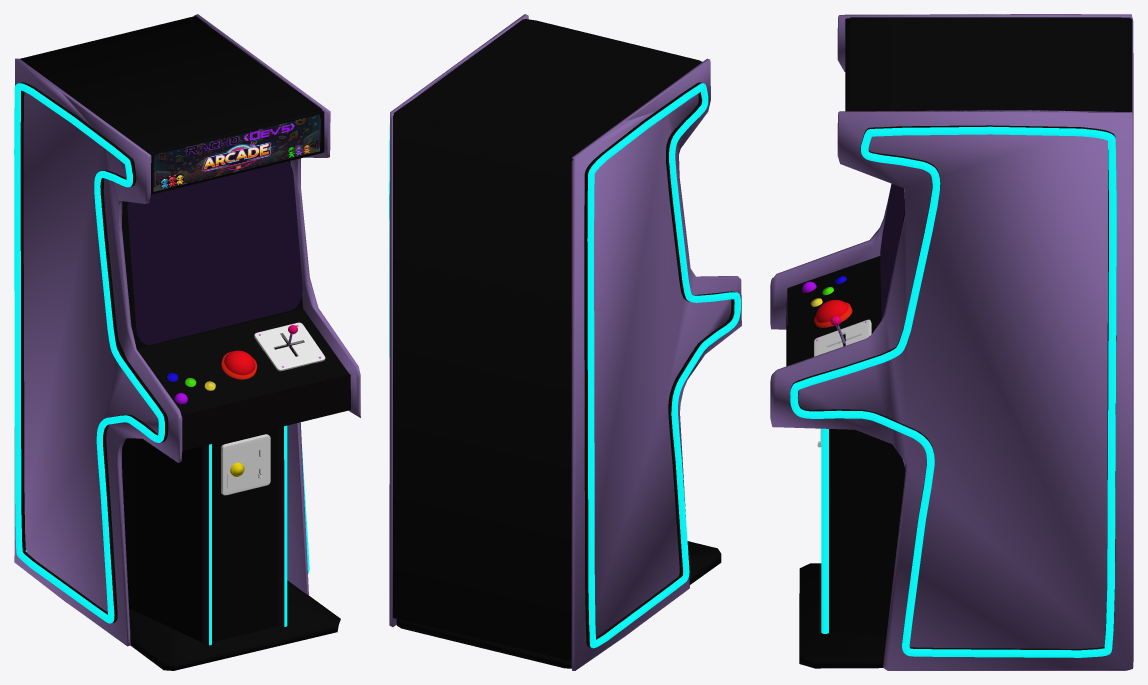
The model's file is rachoArcade.local.glb.
3 renders of one model, left to right at view 1: azimuth 30°, elevation 25°; view 2: azimuth 150°, elevation 25°; view 3: azimuth 270°, elevation 25°, orthographic. The views are drawn at different scales.
Visible parts, largest first — view 1: Body 2, MAIN SCREEN.002, Sweep_NURBS_NEON_0.003, STEEL2.002, Body, ArcadeTopBanner, Front Board, STEEL.005, JoyStick, Body 2.001, Big Red Button; view 2: Body 2, Sweep_NURBS_NEON_0.003, Body; view 3: Body 2, Sweep_NURBS_NEON_0.003, Body, MAIN SCREEN.002, JoyStick, Big Red Button.
Boxes of the visible parts, bbox=[...] form: Body 2: bbox=[14, 14, 360, 670]; MAIN SCREEN.002: bbox=[127, 161, 302, 345]; Sweep_NURBS_NEON_0.003: bbox=[14, 83, 309, 645]; STEEL2.002: bbox=[212, 428, 277, 642]; Body: bbox=[20, 82, 284, 645]; ArcadeTopBanner: bbox=[153, 114, 319, 191]; Front Board: bbox=[181, 374, 350, 450]; STEEL.005: bbox=[221, 434, 270, 495]; JoyStick: bbox=[254, 322, 325, 371]; Body 2.001: bbox=[122, 161, 303, 347]; Big Red Button: bbox=[221, 350, 257, 379]; Body 2: bbox=[389, 14, 741, 670]; Sweep_NURBS_NEON_0.003: bbox=[389, 83, 740, 648]; Body: bbox=[584, 82, 735, 647]; Body 2: bbox=[770, 14, 1133, 670]; Sweep_NURBS_NEON_0.003: bbox=[790, 126, 1116, 657]; Body: bbox=[790, 125, 1116, 650]; MAIN SCREEN.002: bbox=[880, 183, 904, 319]; JoyStick: bbox=[814, 316, 871, 356]; Big Red Button: bbox=[814, 300, 852, 327].
Bounding box in the file's own units: 66.59 × 161 × 94.79.
22 materials, 5 textured.
